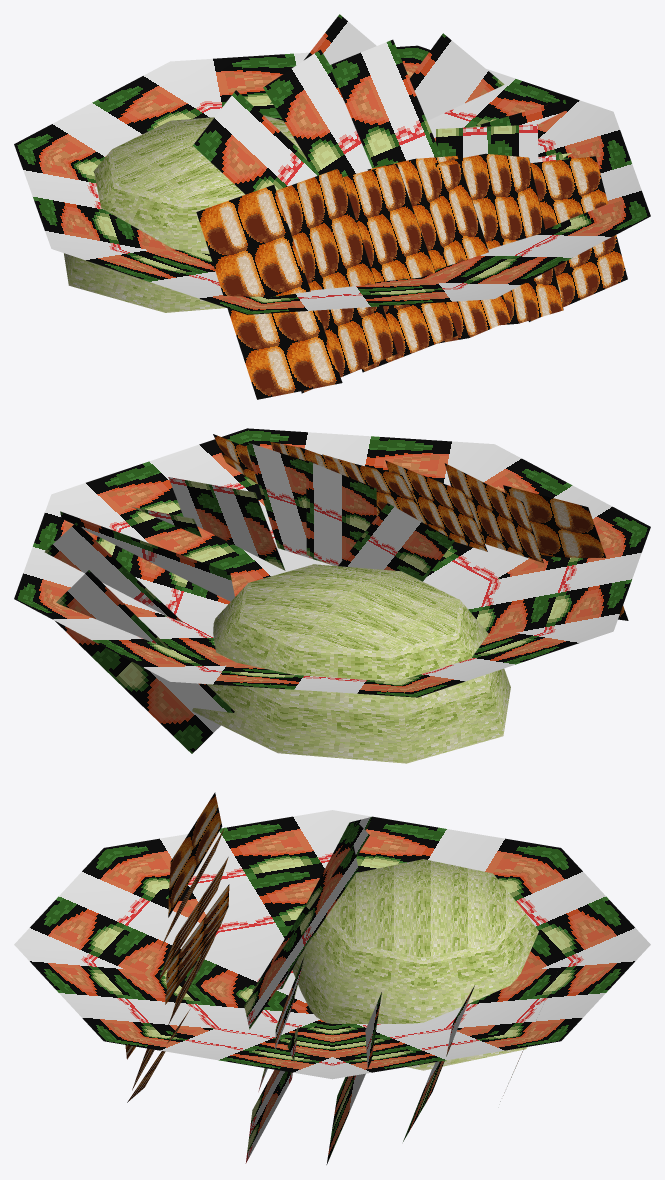
Rendered from 5546u_fri02_hs.gltf.
3 renders of one model, top to bottom at view 1: azimuth 30°, elevation 25°; view 2: azimuth 150°, elevation 25°; view 3: azimuth 270°, elevation 25°, orthographic.
Parts seen in each view (by area): view 1: 5546u_fri02_hs; view 2: 5546u_fri02_hs; view 3: 5546u_fri02_hs.
Part boxes in pixels (x1,y1,x2,y2): 5546u_fri02_hs: [14, 14, 650, 399]; 5546u_fri02_hs: [14, 428, 650, 763]; 5546u_fri02_hs: [14, 792, 650, 1164].
Bounding box in the file's own units: 0.8838 × 0.3901 × 0.8838.
Materials: 5 (5 with a texture image).
